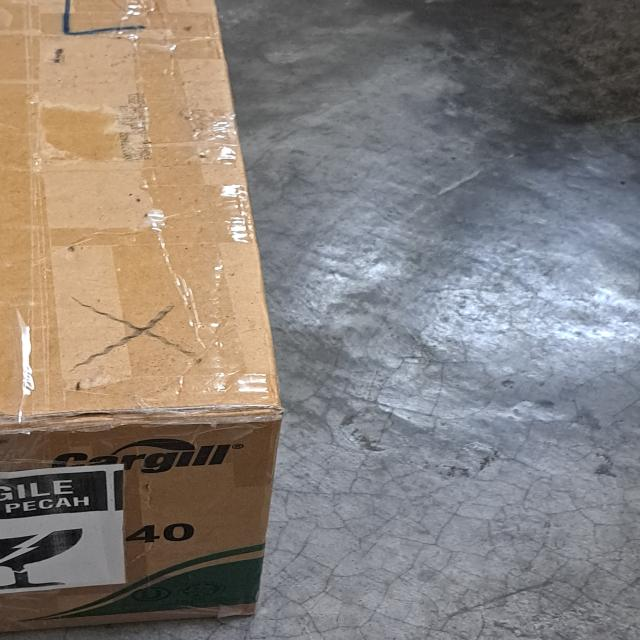cardboard: (0, 0, 285, 632)
